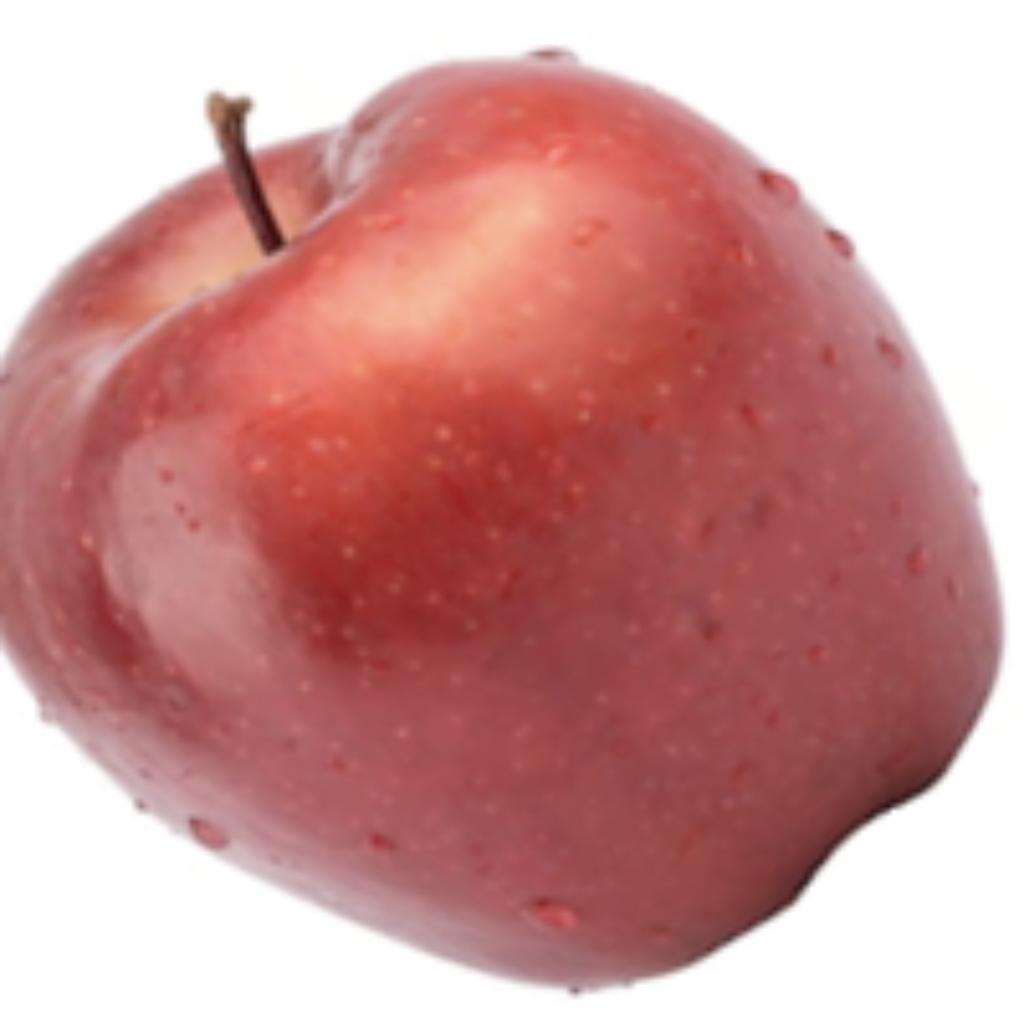apple: (0, 41, 1009, 998)
